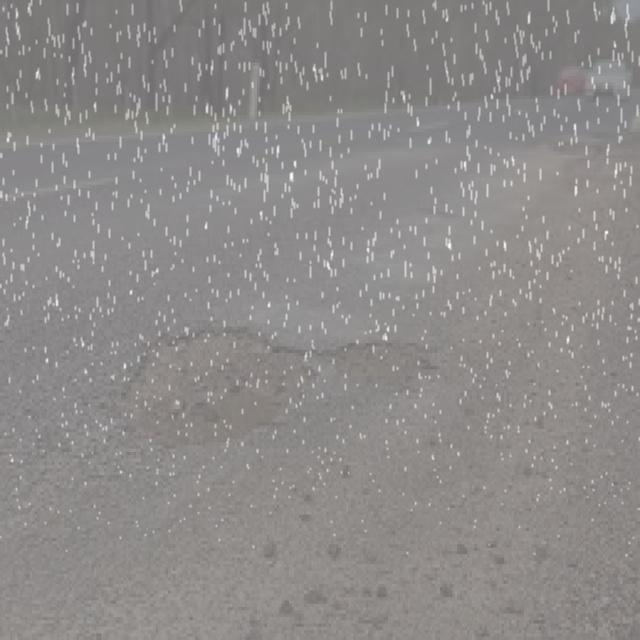Pothole: (78, 311, 440, 446)
